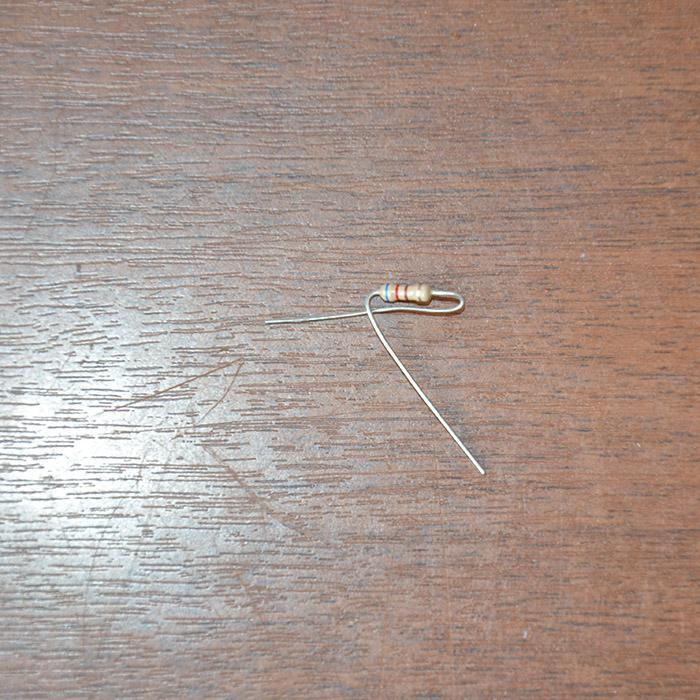resistor: (381, 281, 433, 304)
